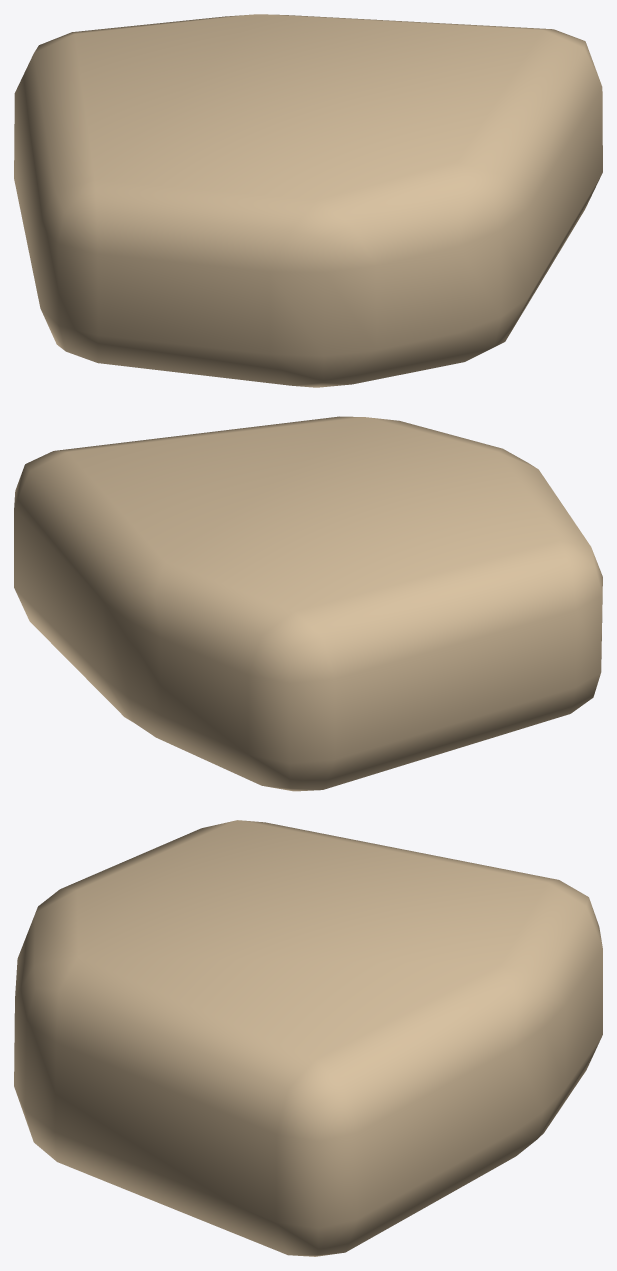
The model's file is RUBBEL_SCHERBE_0.glb.
The picture shows the model from 3 angles, top to bottom: view 1: azimuth 30°, elevation 25°; view 2: azimuth 150°, elevation 25°; view 3: azimuth 270°, elevation 25°; orthographic projection. The views are drawn at different scales.
Parts seen in each view (by area): view 1: RUBBEL_SCHERBE_0; view 2: RUBBEL_SCHERBE_0; view 3: RUBBEL_SCHERBE_0.
Boxes of the visible parts, x1,y1,x2,y2 form: RUBBEL_SCHERBE_0: [14, 14, 602, 387]; RUBBEL_SCHERBE_0: [14, 416, 602, 791]; RUBBEL_SCHERBE_0: [14, 820, 602, 1256].
Size of the model in its own units: 0.5784 by 0.1877 by 0.495.
